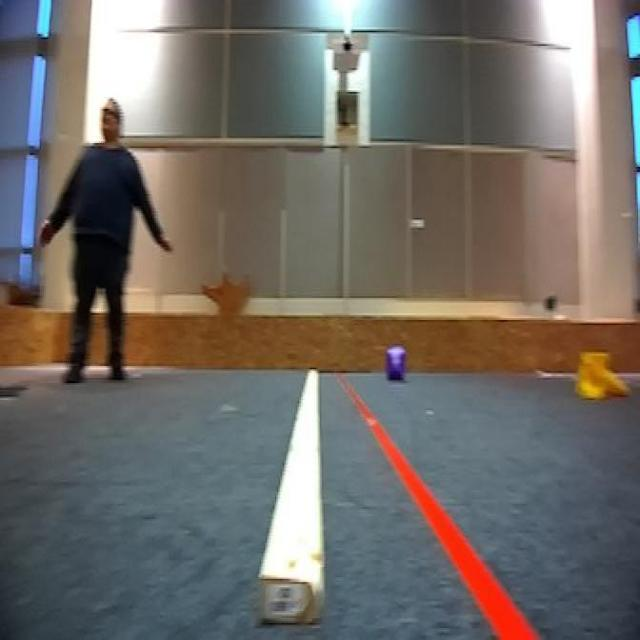frc_cone: (574, 346, 628, 404)
frc_cube: (384, 344, 410, 383)
